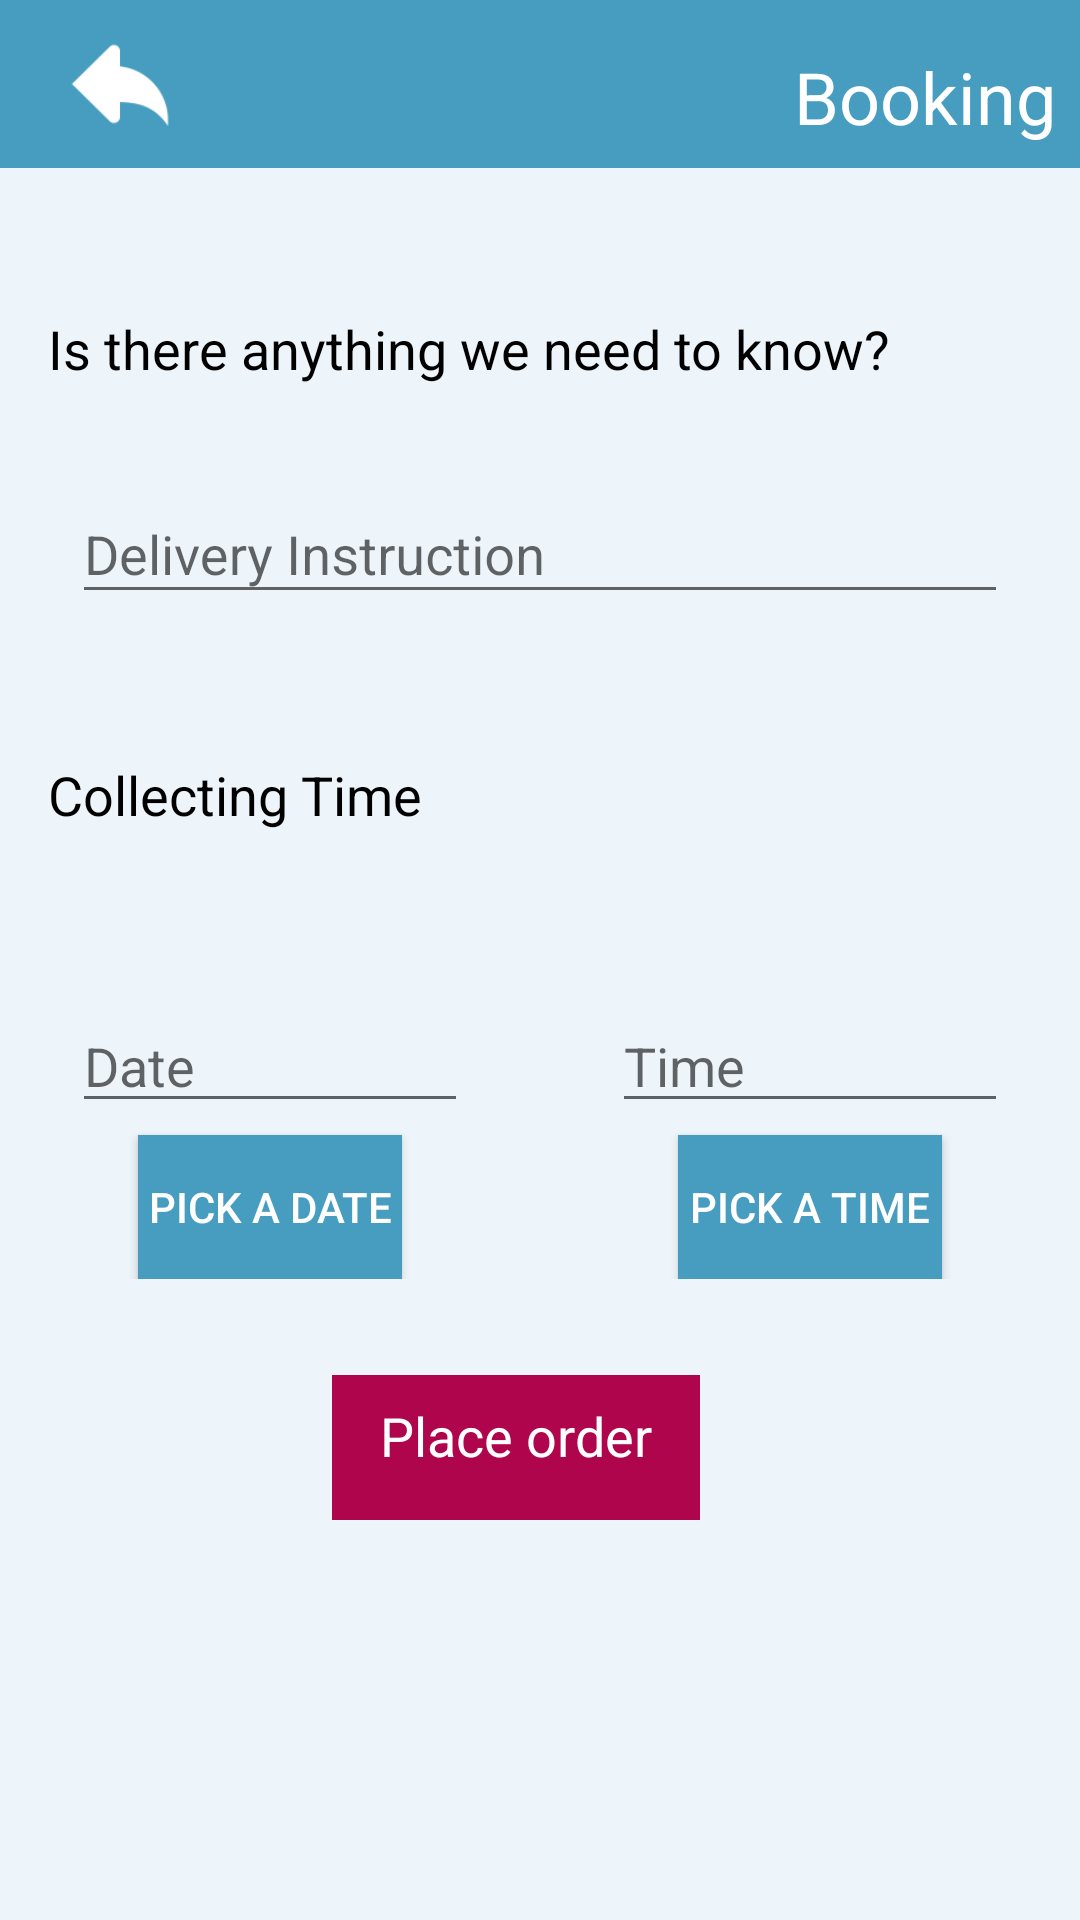

Icons on this 1080x1920 Android screen, each with the point to tap as (x,y):
back: (120,85)
